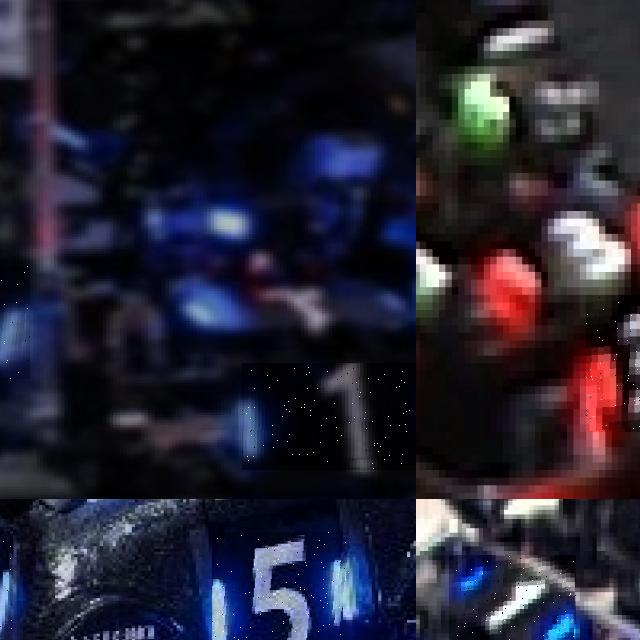B1: (242, 363, 416, 469), (449, 555, 575, 640), (0, 266, 29, 380)
B5: (211, 532, 349, 640), (0, 527, 13, 640)
R3: (586, 295, 640, 432)
